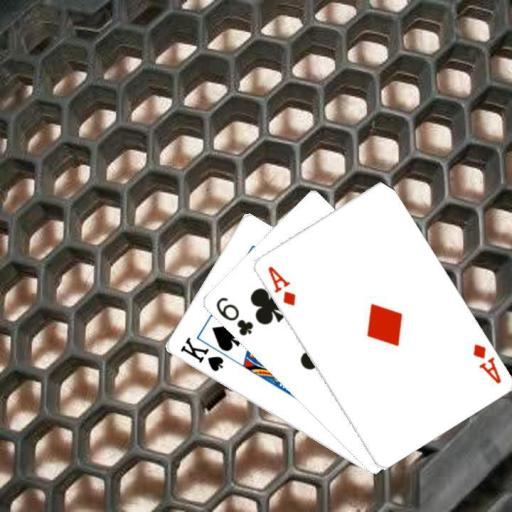6C: (212, 294, 254, 338)
AD: (264, 263, 297, 308), (469, 341, 502, 386)
KS: (176, 335, 225, 374)
